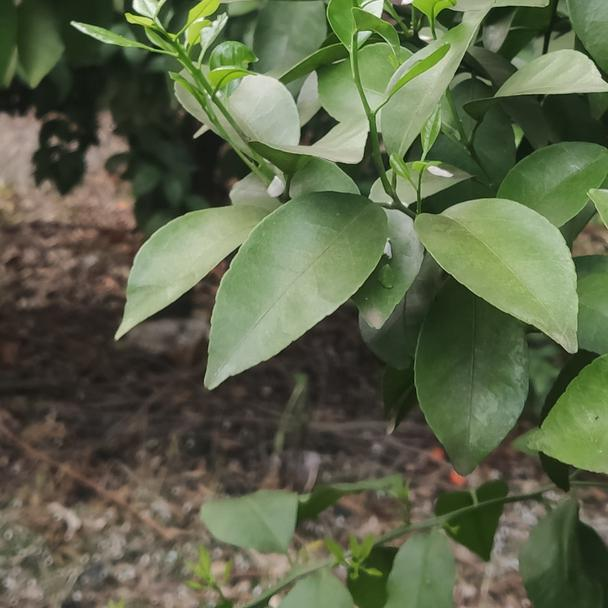shoot: (76, 5, 273, 154)
